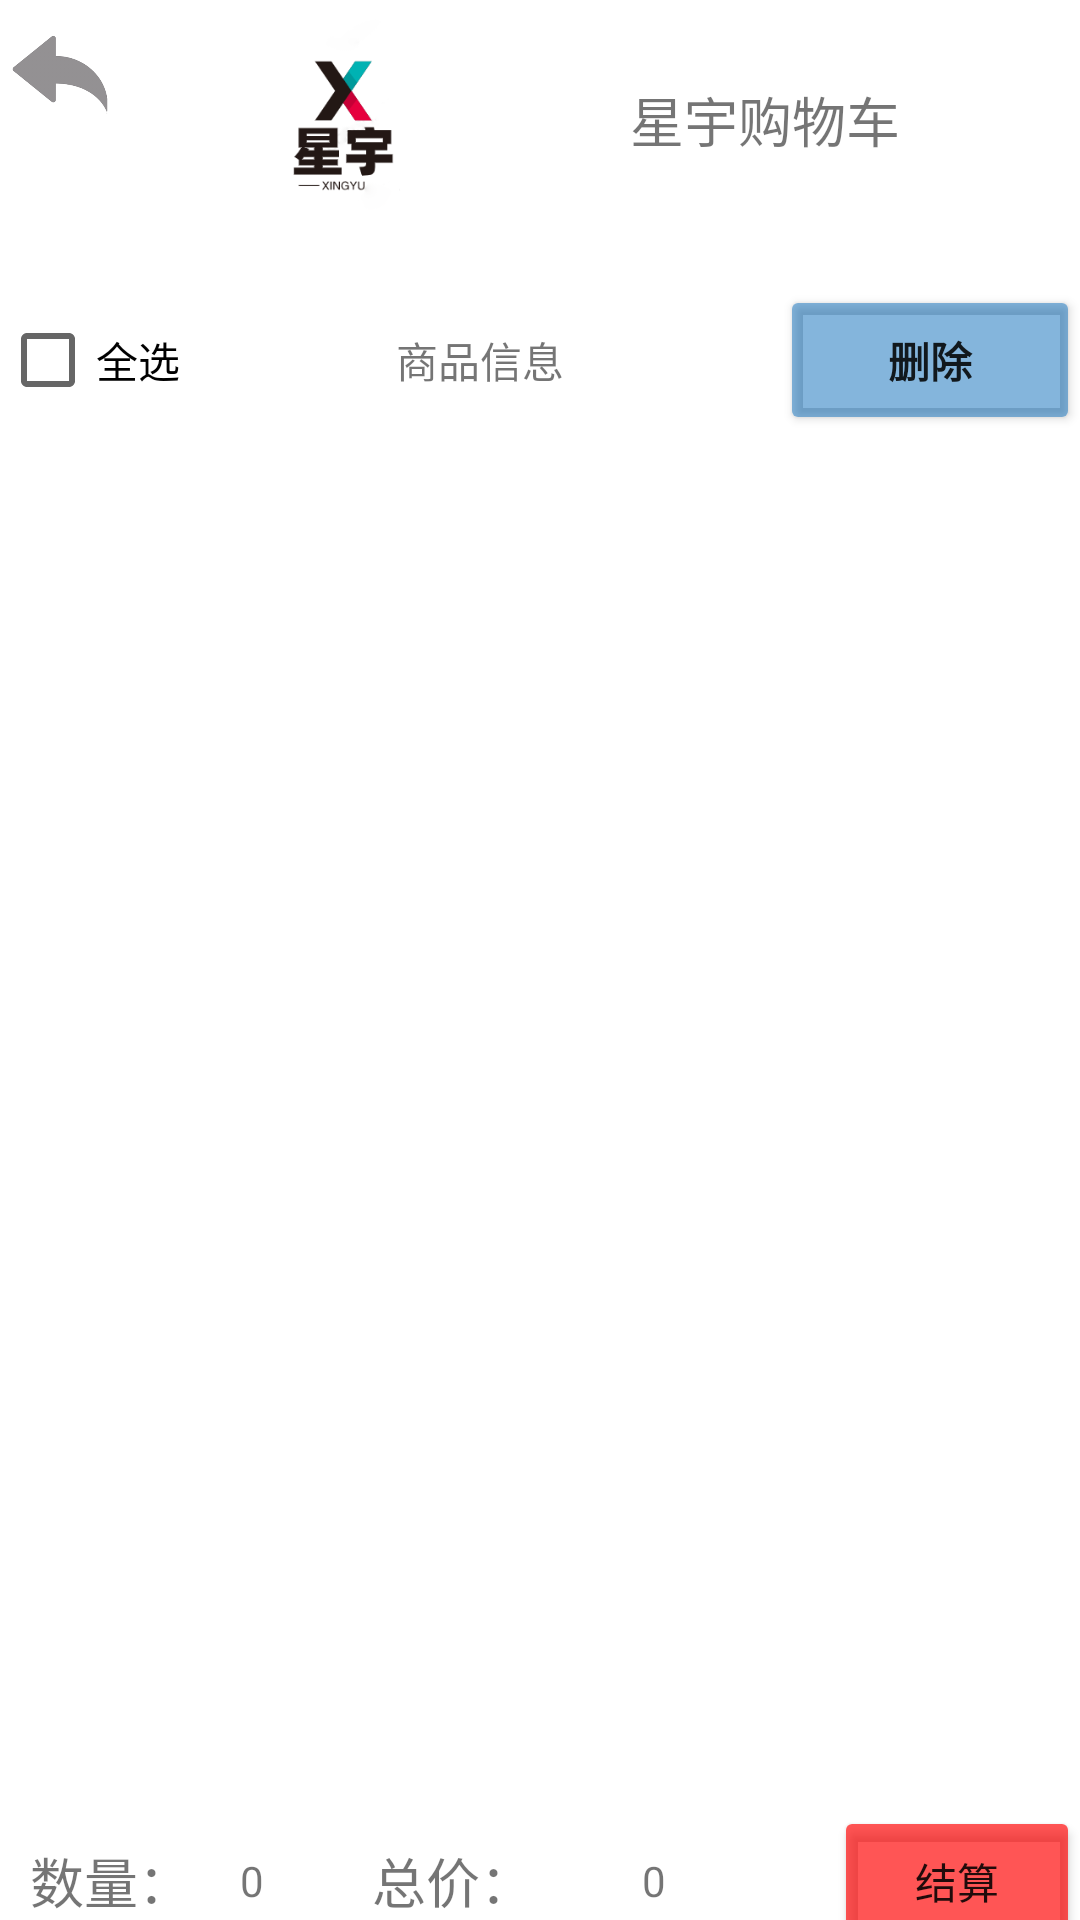

Icon click points for this 1080×1920 phone screenshot, format (x=x, y=y):
back: (x=60, y=74)
